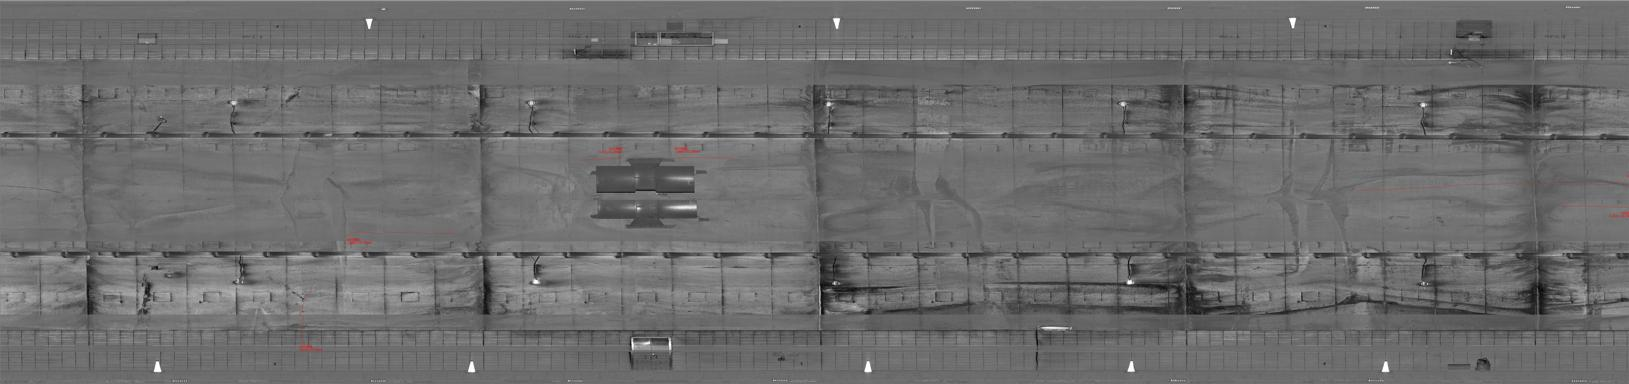light: (1114, 98, 1132, 110), (1122, 276, 1138, 289), (528, 277, 543, 289), (232, 277, 247, 289), (820, 99, 838, 108), (524, 98, 540, 108), (828, 279, 842, 290), (1416, 279, 1431, 289), (226, 98, 240, 107), (1416, 100, 1428, 109)
